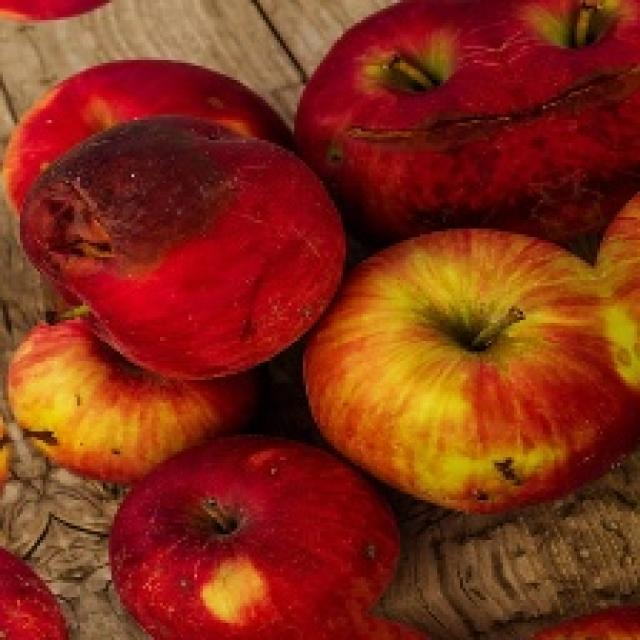rotten_apple: (25, 119, 338, 368), (314, 2, 523, 232)
